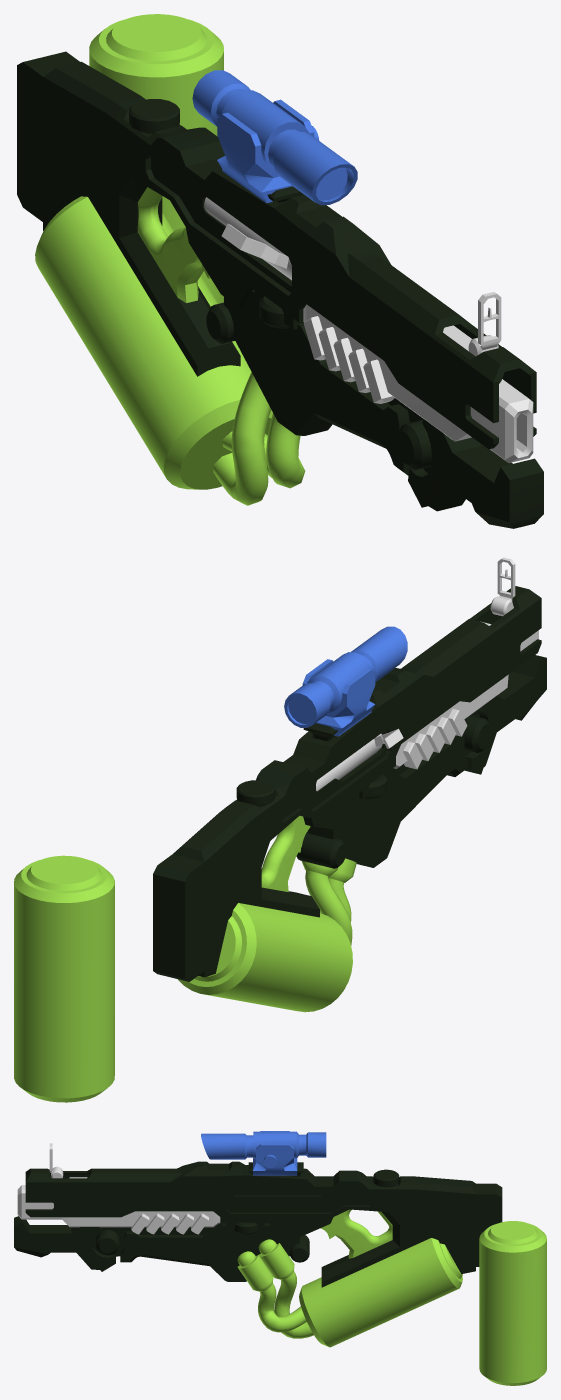
Rendered from ERifle.fbx.
The picture shows the model from 3 angles, top to bottom: view 1: azimuth 30°, elevation 25°; view 2: azimuth 150°, elevation 25°; view 3: azimuth 270°, elevation 25°; orthographic projection. The views are drawn at different scales.
Parts seen in each view (by area): view 1: Cube.012, Cube.014; view 2: Cube.012, Cube.014; view 3: Cube.012, Cube.014.
Boxes of the visible parts, x1,y1,x2,y2 form: Cube.012: (17, 14, 543, 528); Cube.014: (137, 187, 210, 302); Cube.012: (14, 557, 546, 1102); Cube.014: (261, 815, 310, 891); Cube.012: (14, 1131, 546, 1385); Cube.014: (320, 1209, 392, 1258).
Size of the model in its own units: 135 by 221 by 505.
